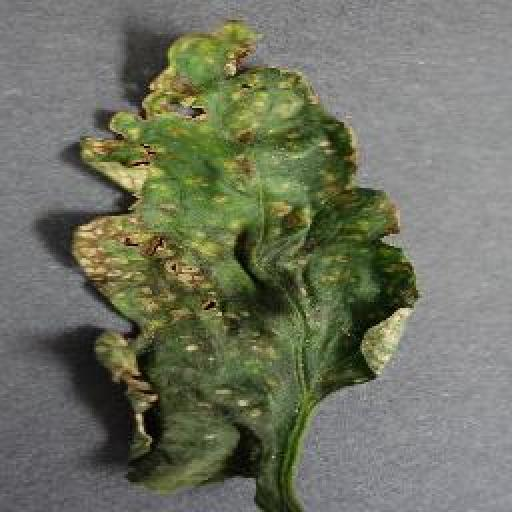Bacterial Spot: (66, 13, 426, 496)
